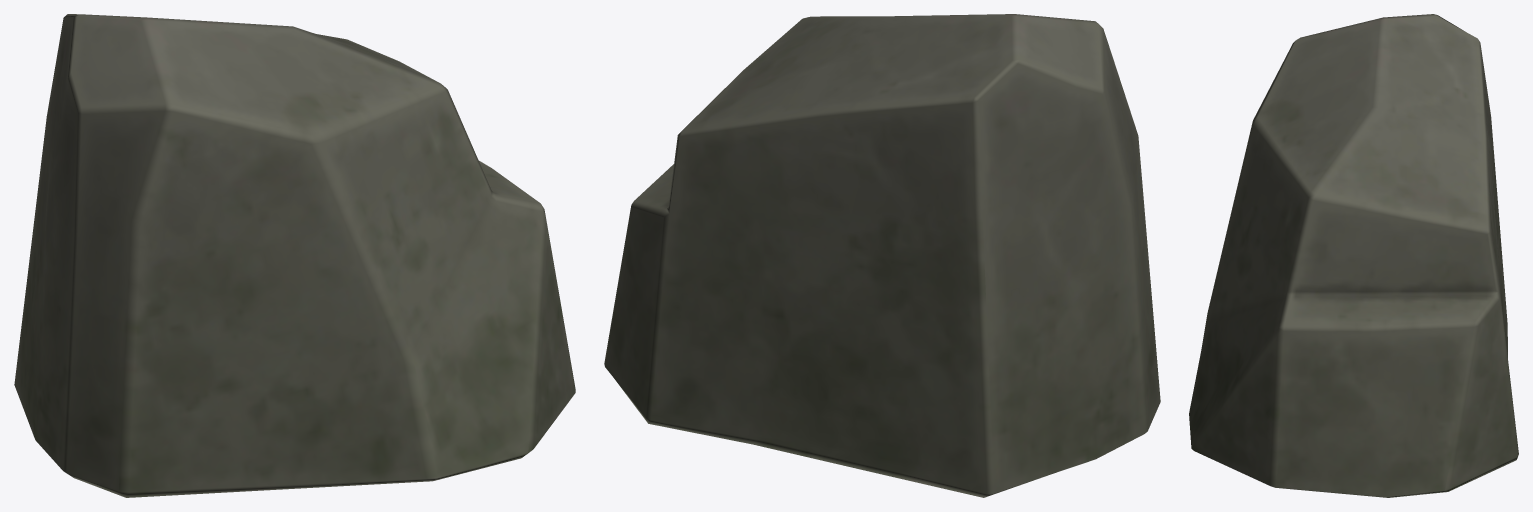
The model's file is AP2_Rock4.glb.
3 renders of one model, left to right at view 1: azimuth 30°, elevation 25°; view 2: azimuth 150°, elevation 25°; view 3: azimuth 270°, elevation 25°, orthographic. The views are drawn at different scales.
Visible parts, largest first — view 1: Rock4_LOD0; view 2: Rock4_LOD0; view 3: Rock4_LOD0.
Boxes of the visible parts, box(x1,y1,x2,y2) form: Rock4_LOD0: box(14, 14, 575, 497); Rock4_LOD0: box(604, 14, 1160, 497); Rock4_LOD0: box(1189, 14, 1518, 497).
Bounding box in the file's own units: 1.59 × 1.27 × 1.15.
Materials: 1 (1 with a texture image).
